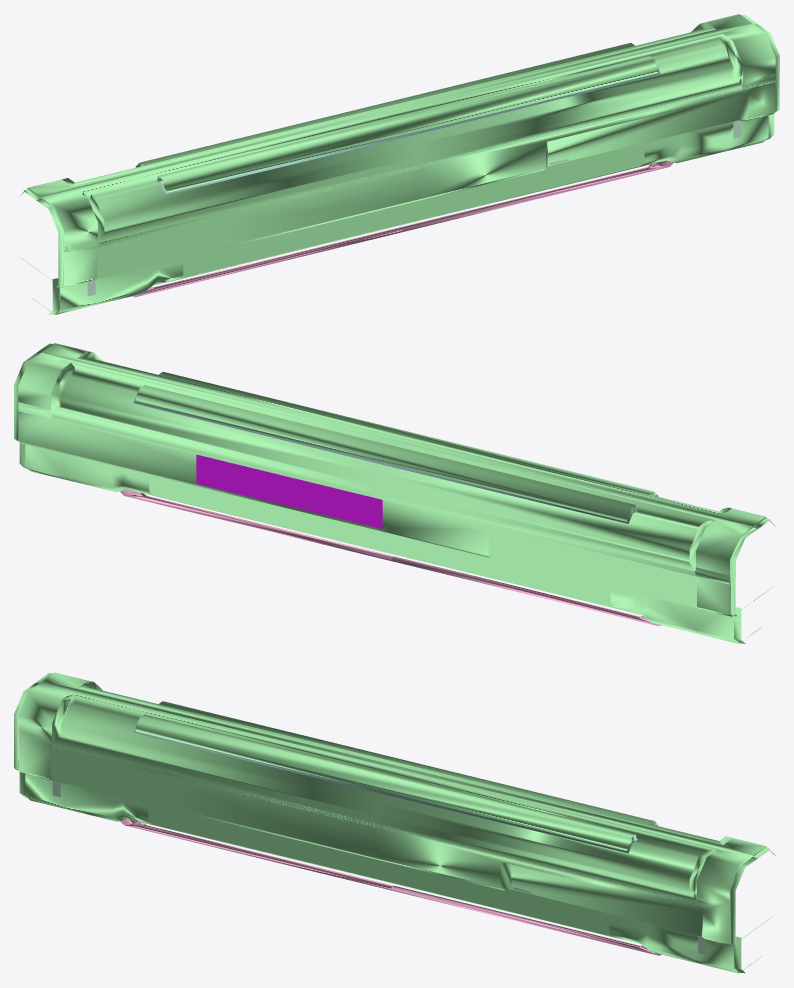
Rendered from roomlg_b_addon_pilar_archway_08x01x02_lod1.glb.
3 renders of one model, top to bottom at view 1: azimuth 30°, elevation 25°; view 2: azimuth 150°, elevation 25°; view 3: azimuth 330°, elevation 25°, orthographic.
Size of the model in its own units: 8 by 1.25 by 0.8851.
